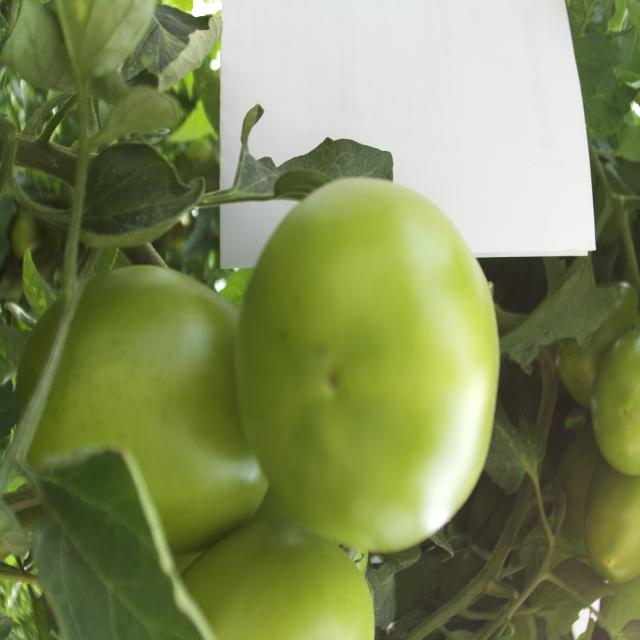yesil: (174, 145, 511, 579)
